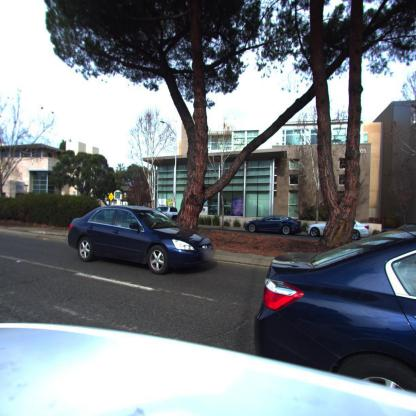car: (254, 216, 415, 410), (65, 206, 217, 274), (311, 218, 370, 243), (246, 214, 302, 236), (355, 223, 383, 240), (304, 221, 327, 236), (156, 206, 179, 219)
